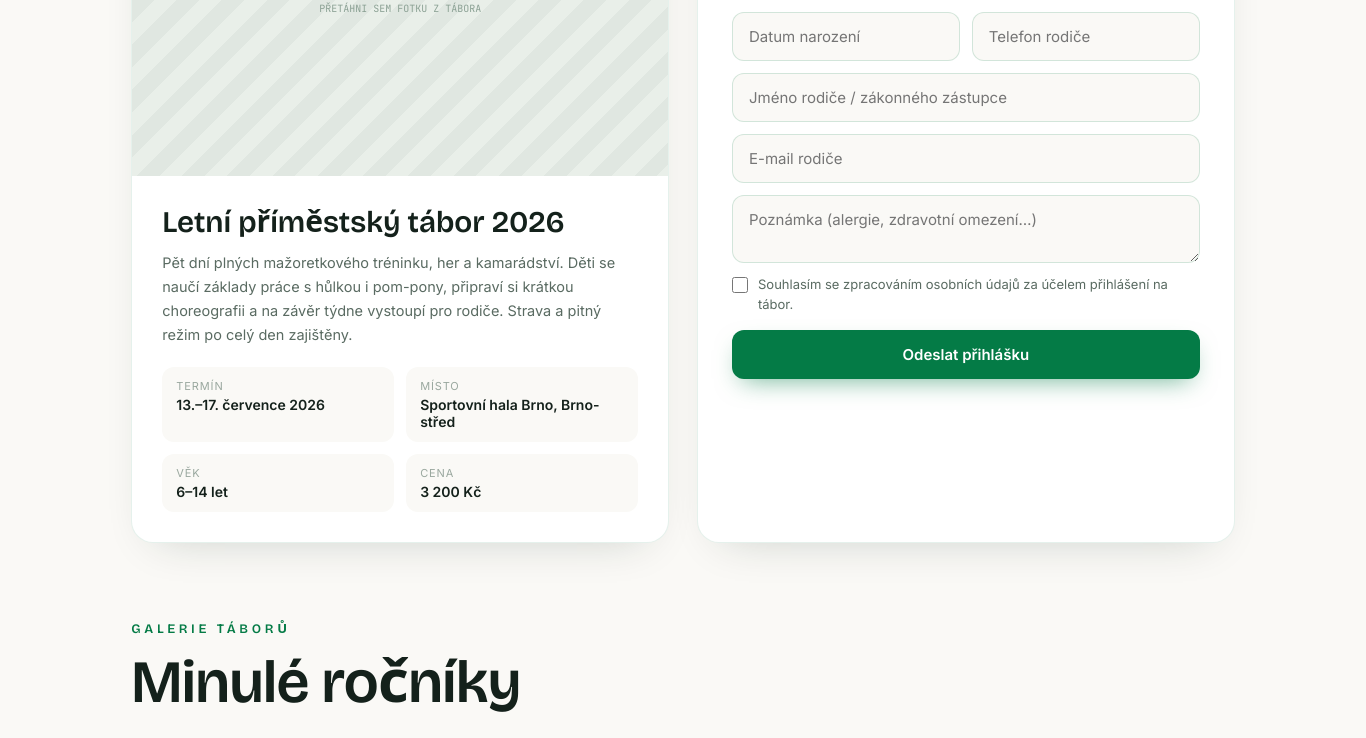
Test case: open application submits to a confirmation state
(page scrolled)
Click the button "Odeslat přihlášku".
click(966, 355)  # box [732, 330, 1200, 379]
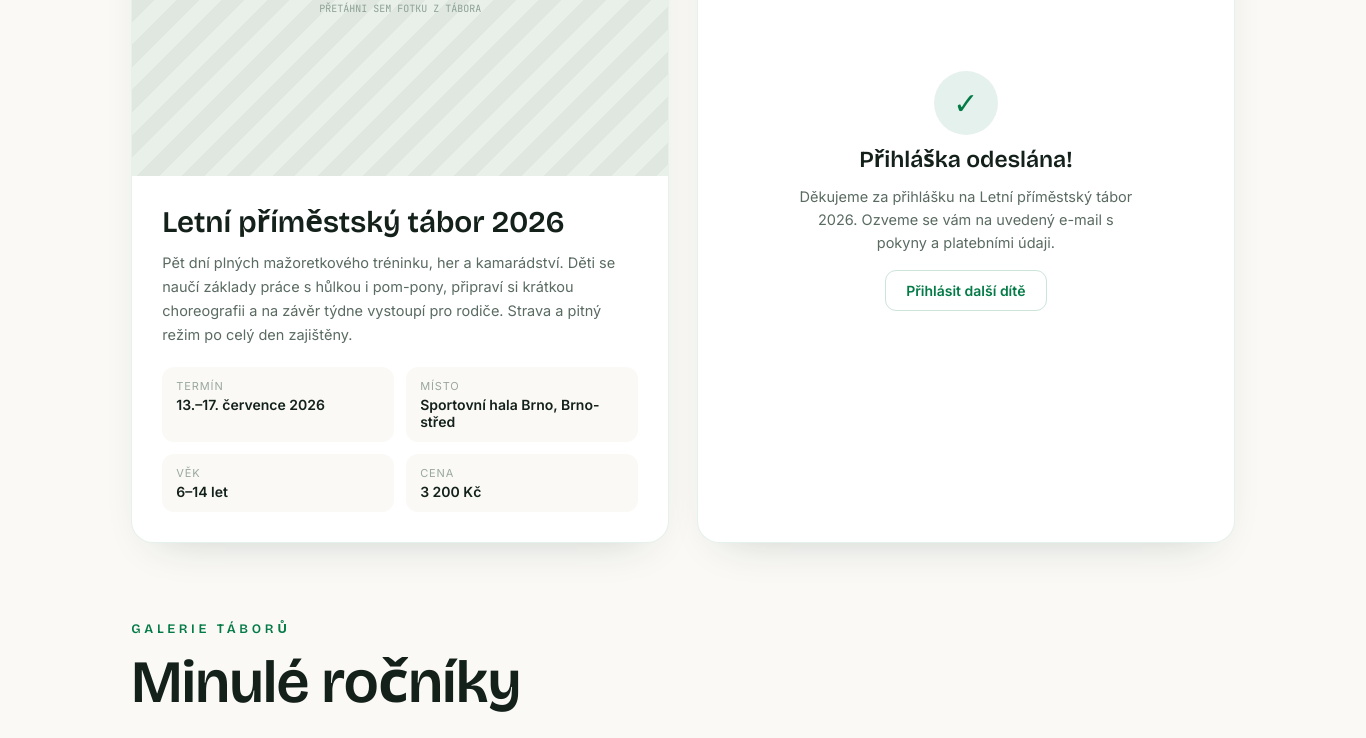
Now the heading "Přihláška odeslána!" is shown, box [859, 147, 1072, 173]
